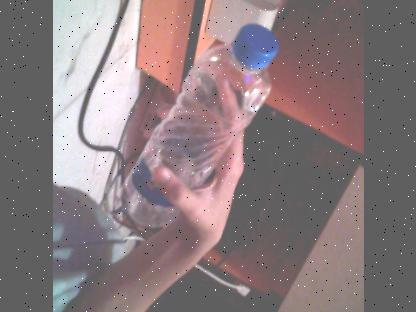Plastic Bottle: (119, 24, 279, 230)
